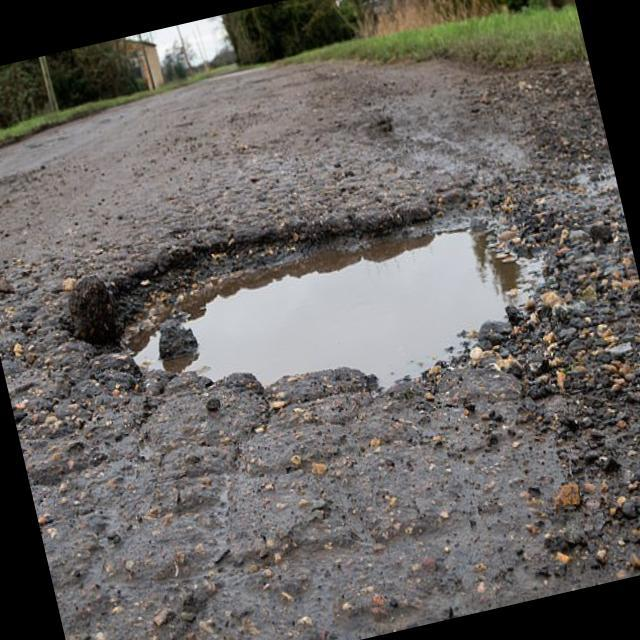Pothole: (40, 123, 596, 468)
